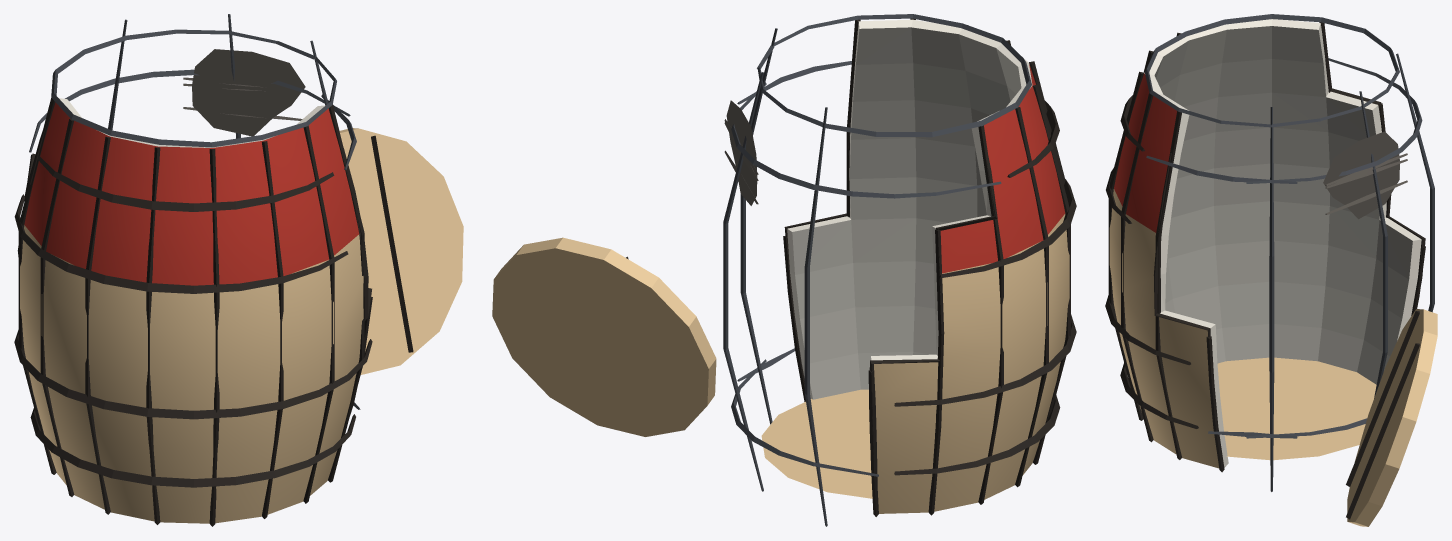
The model's file is Barrel.fbx.
3 renders of one model, left to right at view 1: azimuth 30°, elevation 25°; view 2: azimuth 150°, elevation 25°; view 3: azimuth 270°, elevation 25°, orthographic. The views are drawn at different scales.
Visible parts, largest first — view 1: Main, Lines; view 2: Main, Lines; view 3: Main, Lines.
Boxes of the visible parts, x1,y1,x2,y2 form: Main: (20, 98, 463, 523); Lines: (14, 14, 413, 526); Main: (492, 19, 1069, 513); Lines: (626, 14, 1076, 526); Main: (1109, 19, 1437, 526); Lines: (1105, 14, 1434, 519).
Size of the model in its own units: 1.22 by 0.9987 by 0.7819.
